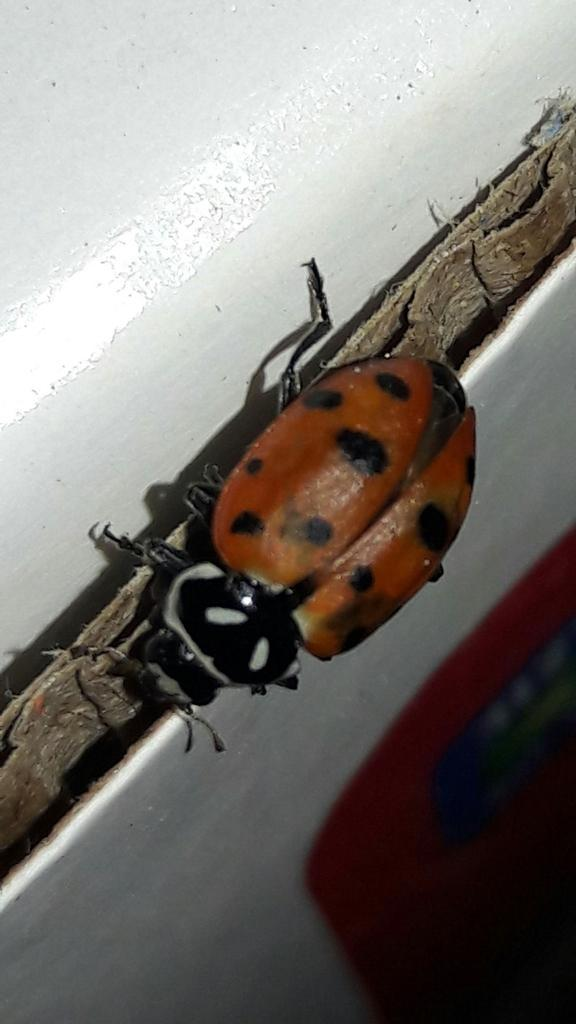ladybug: (66, 256, 484, 756)
